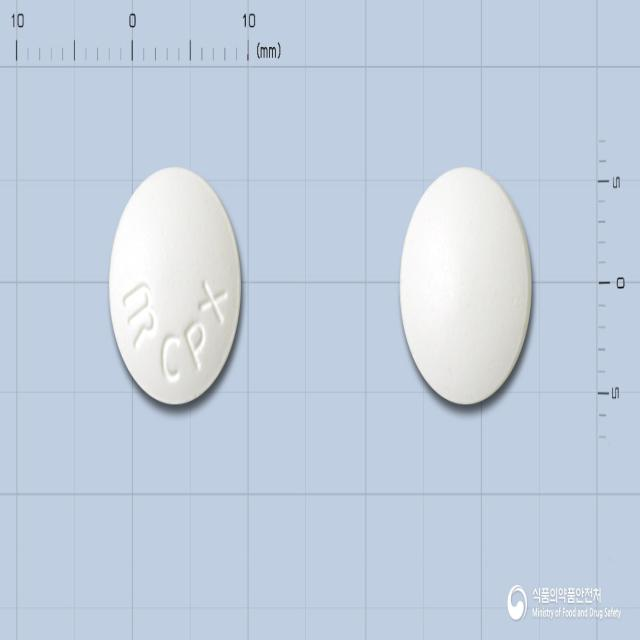Ciprocin - 259mg: (108, 162, 244, 410)
